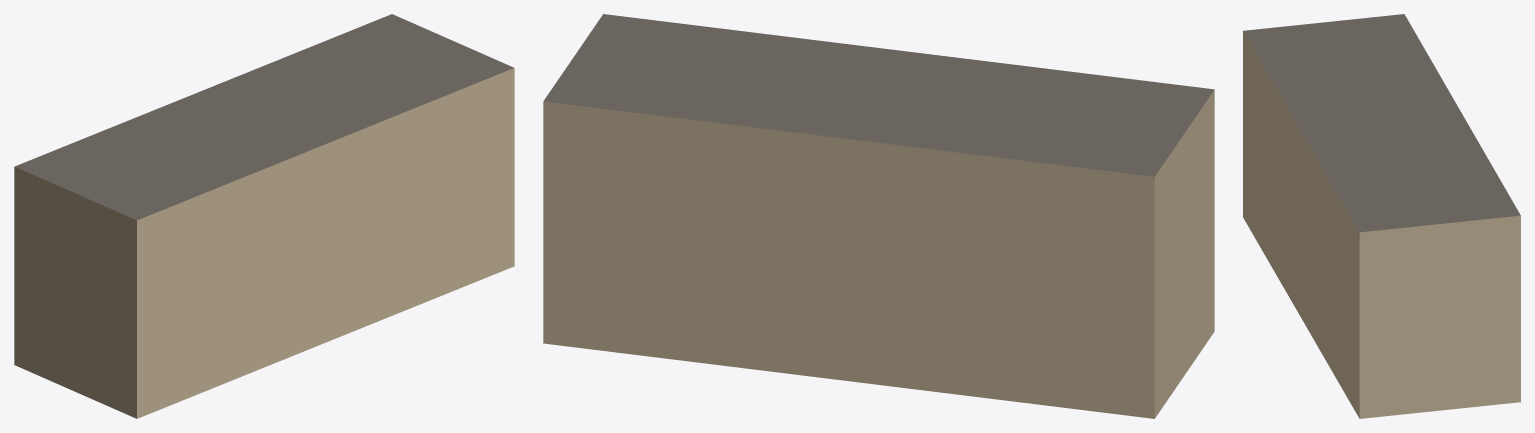
The picture shows the model from 3 angles, left to right: view 1: azimuth 30°, elevation 25°; view 2: azimuth 150°, elevation 25°; view 3: azimuth 270°, elevation 25°; orthographic projection. The views are drawn at different scales.
Visible parts, largest first — view 1: HP-w572270461; view 2: HP-w572270461; view 3: HP-w572270461.
Boxes of the visible parts, <box> form: HP-w572270461: <box>14,14,514,418</box>; HP-w572270461: <box>543,14,1214,418</box>; HP-w572270461: <box>1243,14,1520,418</box>.
Bounding box in the file's own units: 49.7 × 19.8 × 26.72.
